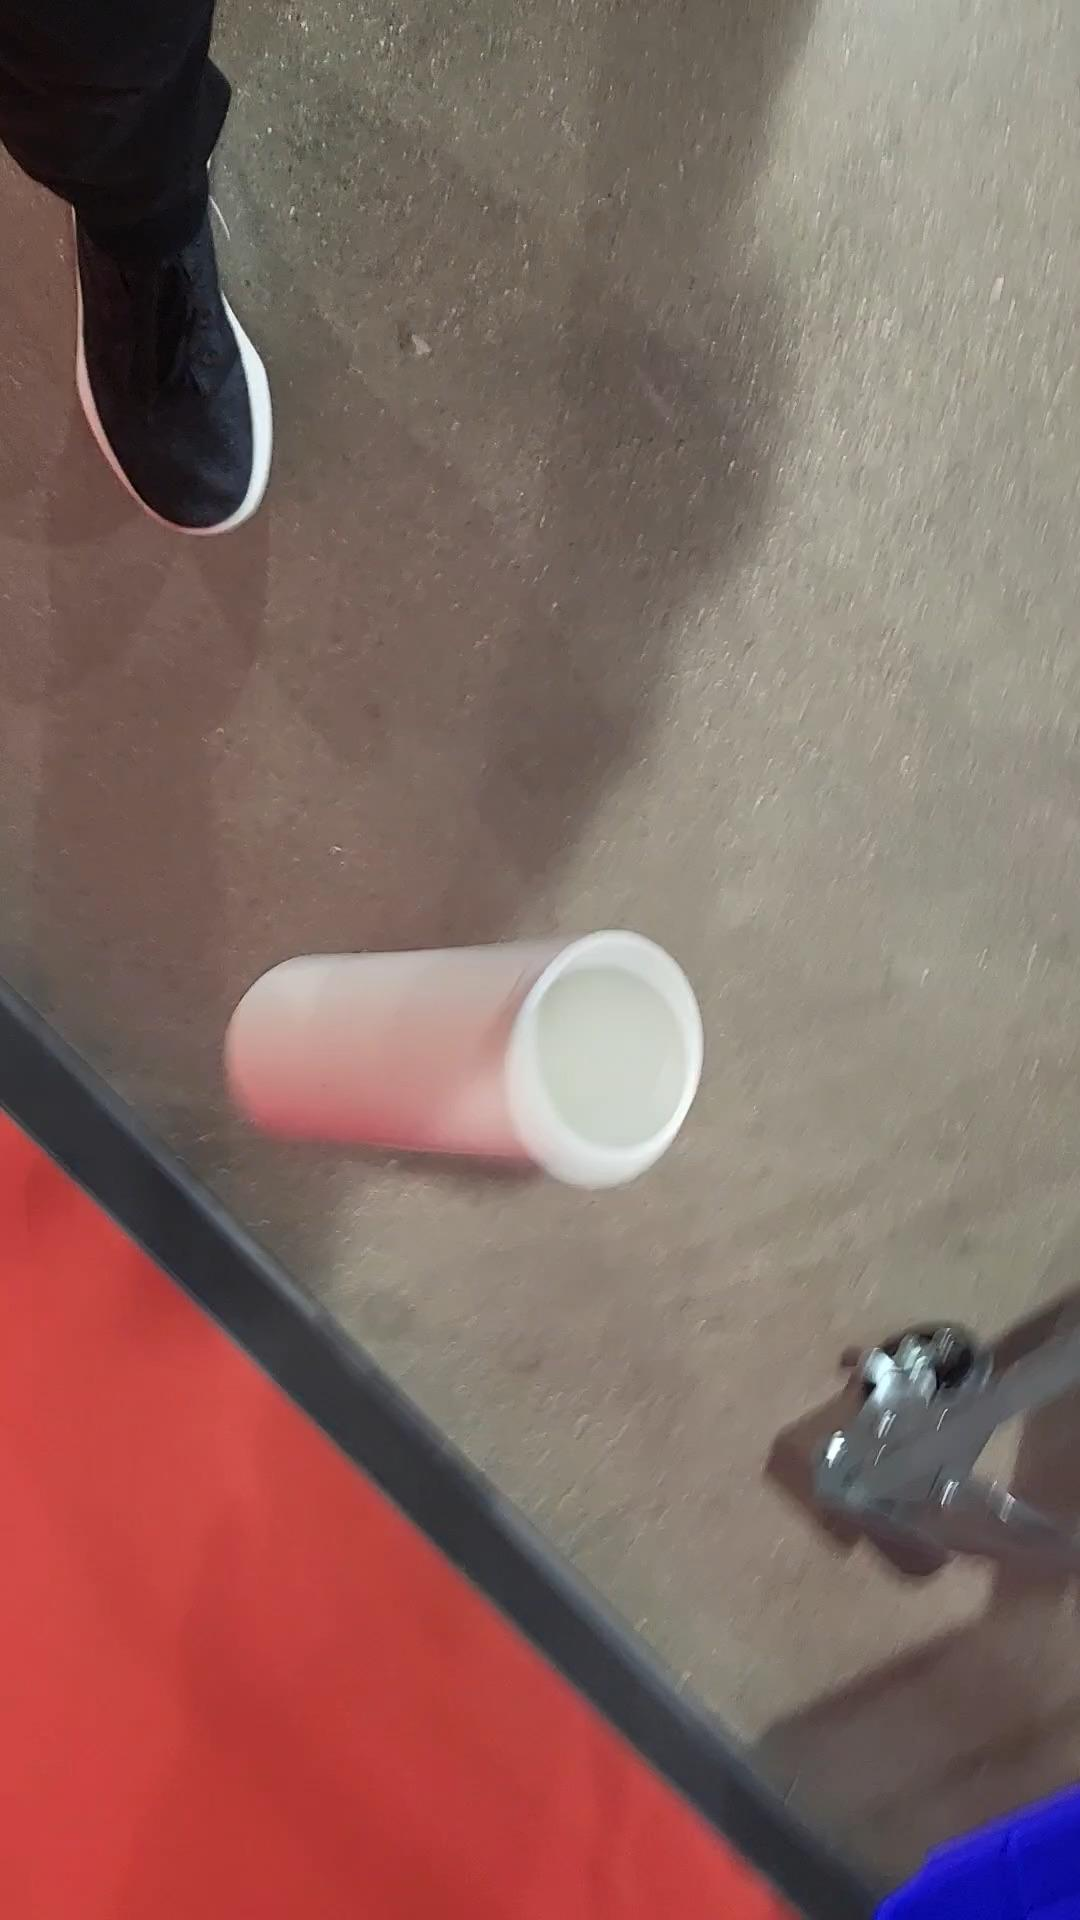coral: (225, 927, 703, 1192)
